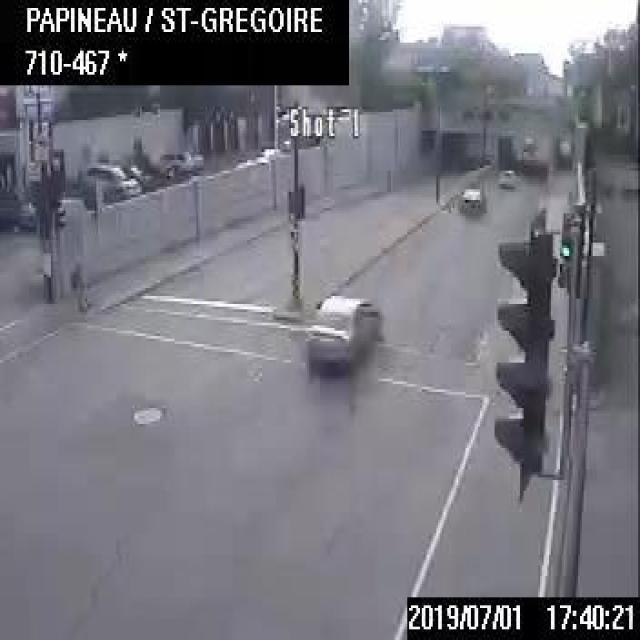pedestrian: (67, 256, 90, 310)
vehicle: (304, 292, 380, 371), (0, 185, 64, 231), (81, 161, 138, 201), (153, 148, 204, 178), (118, 162, 154, 189), (458, 182, 486, 214), (494, 162, 514, 186)
